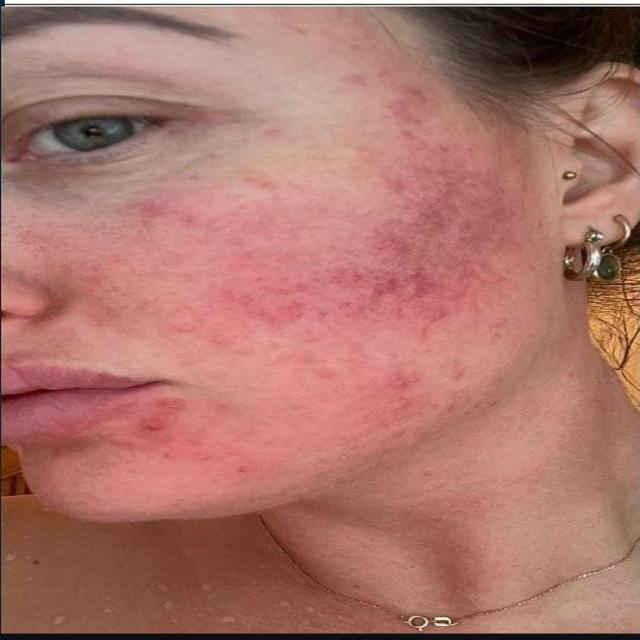Rosacea: (248, 111, 504, 337)
